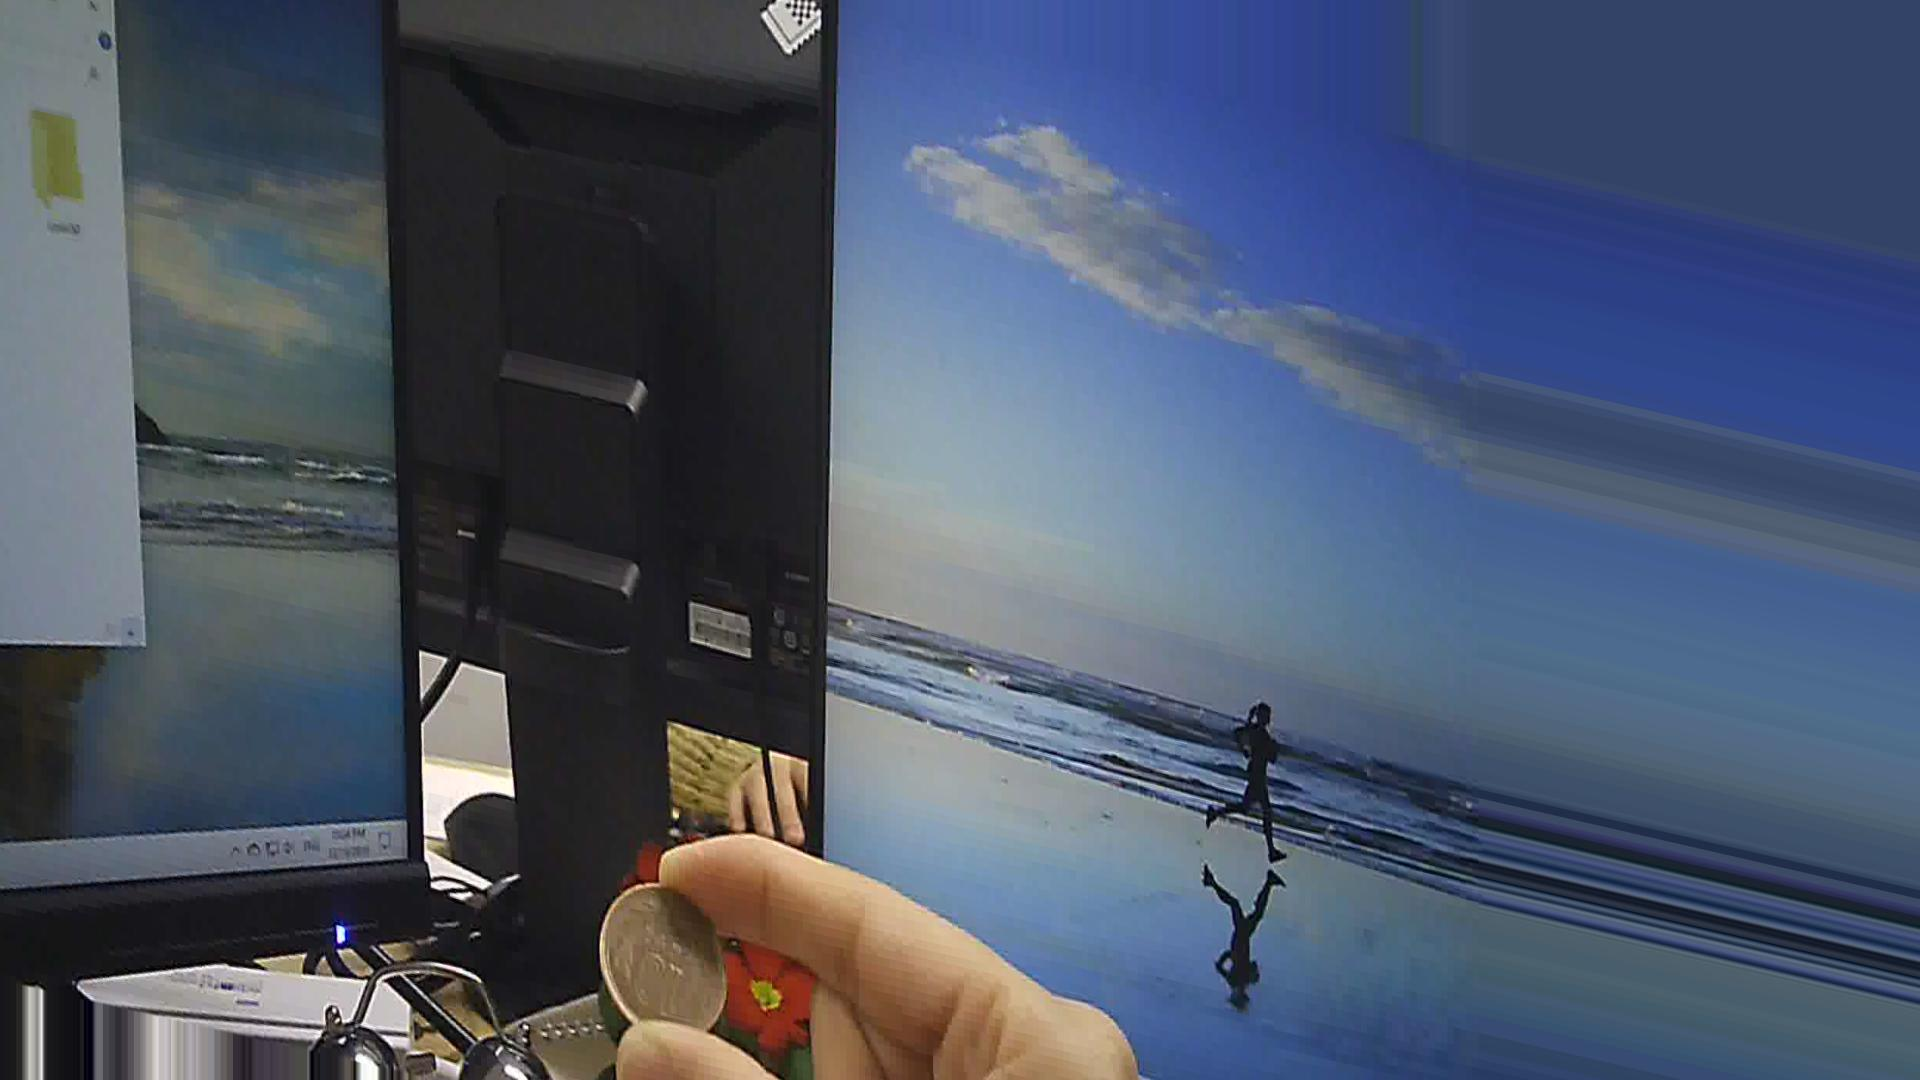10 Yen: (589, 876, 749, 1040)
